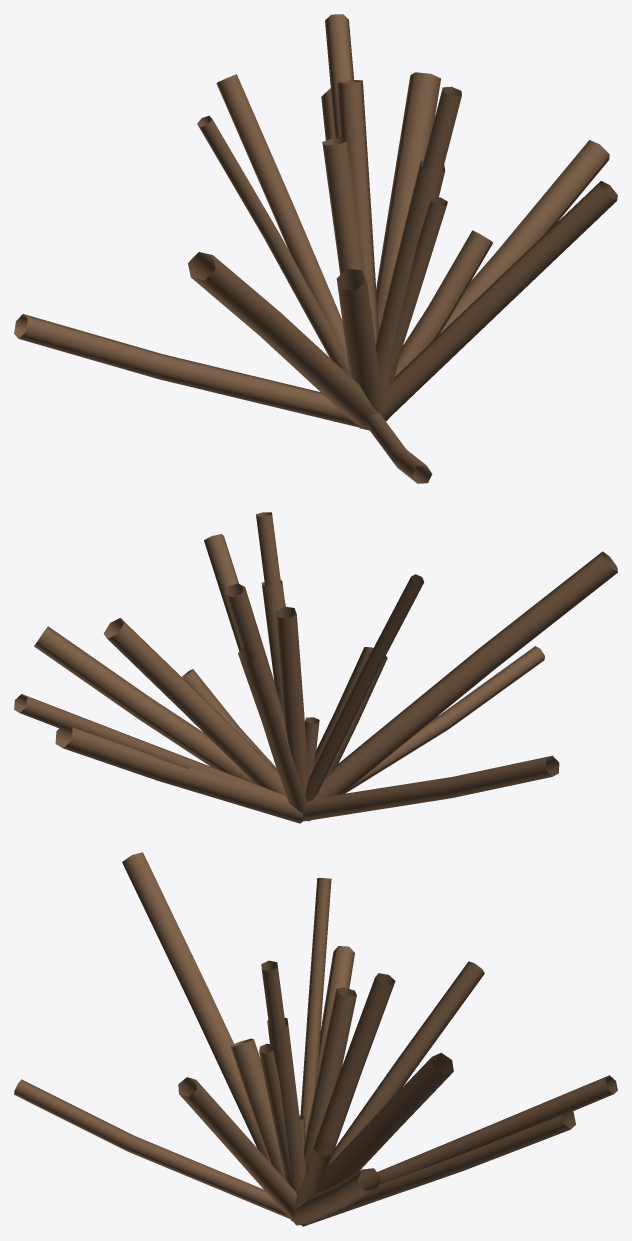
The model's file is shrub_mixed_winter.glb.
3 views of the same model, one above another, from view 1: azimuth 30°, elevation 25°; view 2: azimuth 150°, elevation 25°; view 3: azimuth 270°, elevation 25° (orthographic). The views are drawn at different scales.
Visible parts, largest first — view 1: shrub_mixed_winter; view 2: shrub_mixed_winter; view 3: shrub_mixed_winter.
Part boxes in pixels (x1=…): shrub_mixed_winter: x1=14, y1=14, x2=617, y2=483; shrub_mixed_winter: x1=14, y1=512, x2=617, y2=823; shrub_mixed_winter: x1=14, y1=852, x2=617, y2=1226.
Size of the model in its own units: 1.54 by 0.8176 by 1.57.
